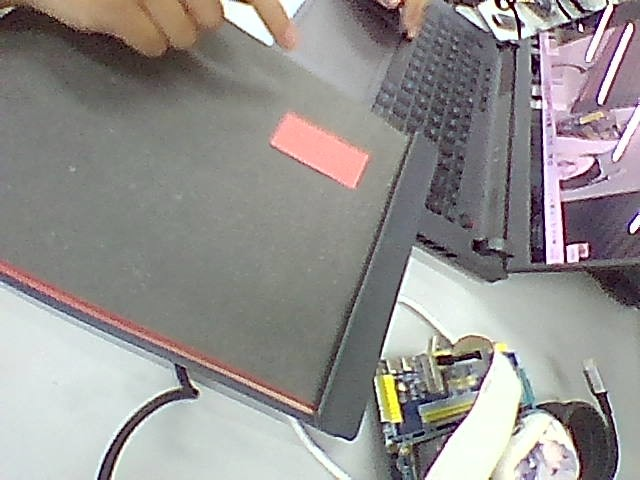card: (271, 112, 369, 189)
